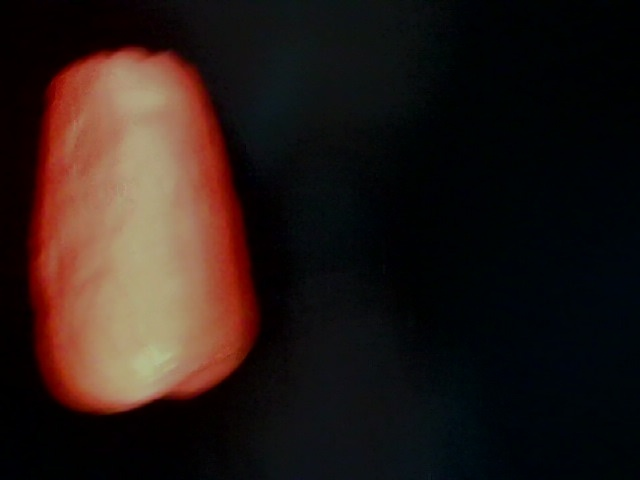CYLJ: (6, 1, 227, 229)
